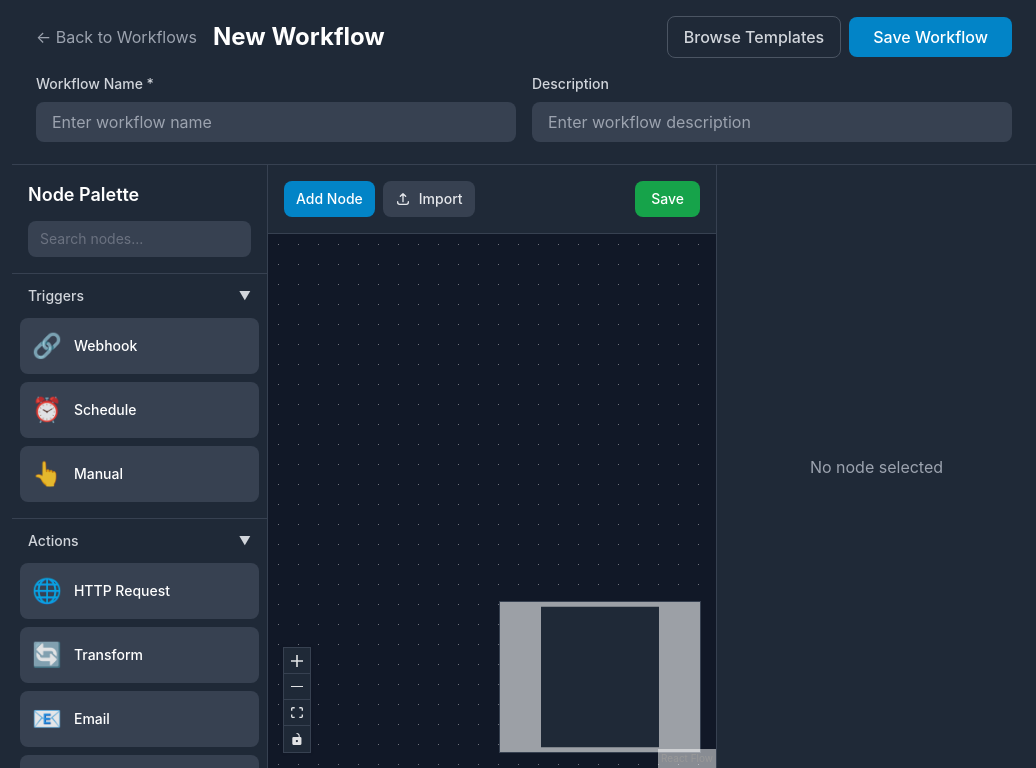
it: WorkflowEditor Integration Tests › Save Workflow Button › should validate workflow name before saving
# Click Save without entering name
Click the button "Save Workflow" at (931, 37), box [849,17,1012,57]
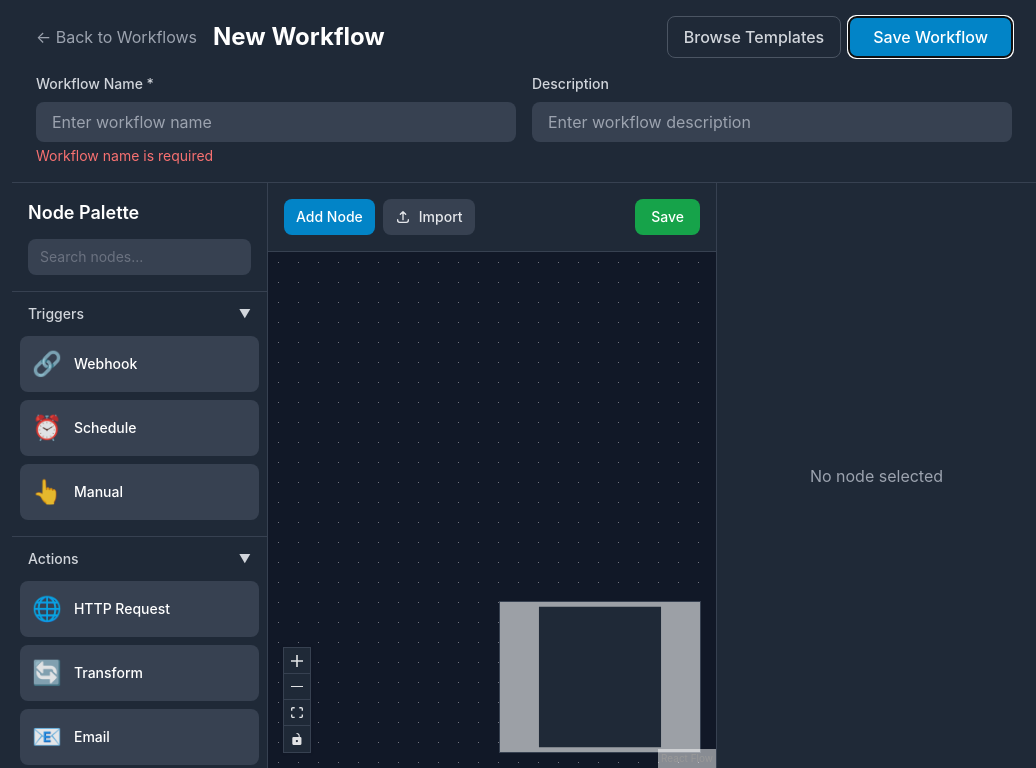
Check: the text "Workflow name is required" is shown, box [36,147,213,164]
